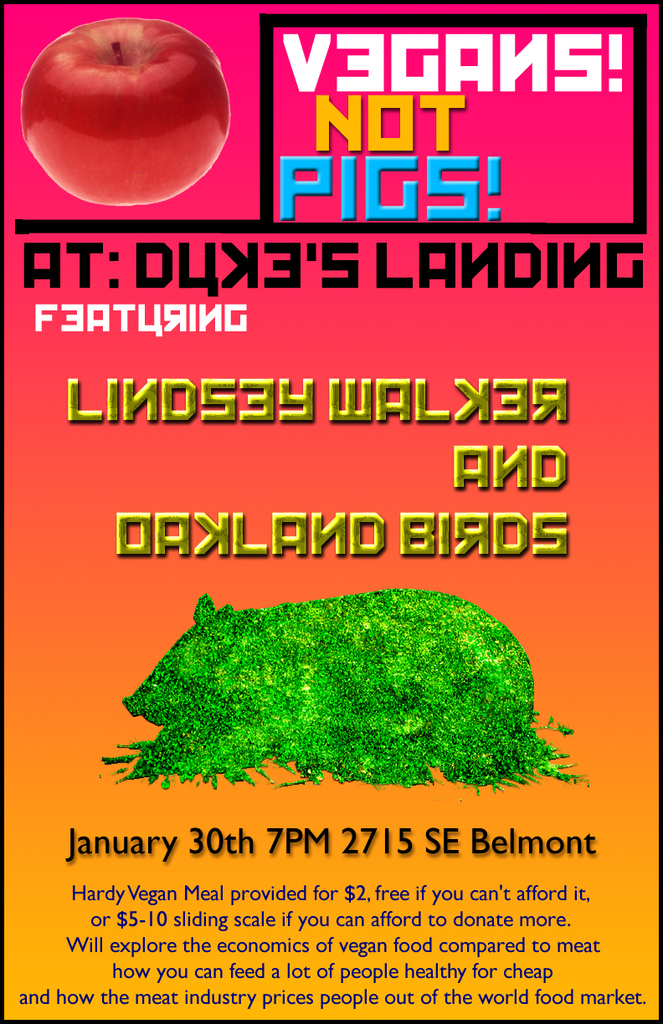Apple: (24, 14, 246, 209)
